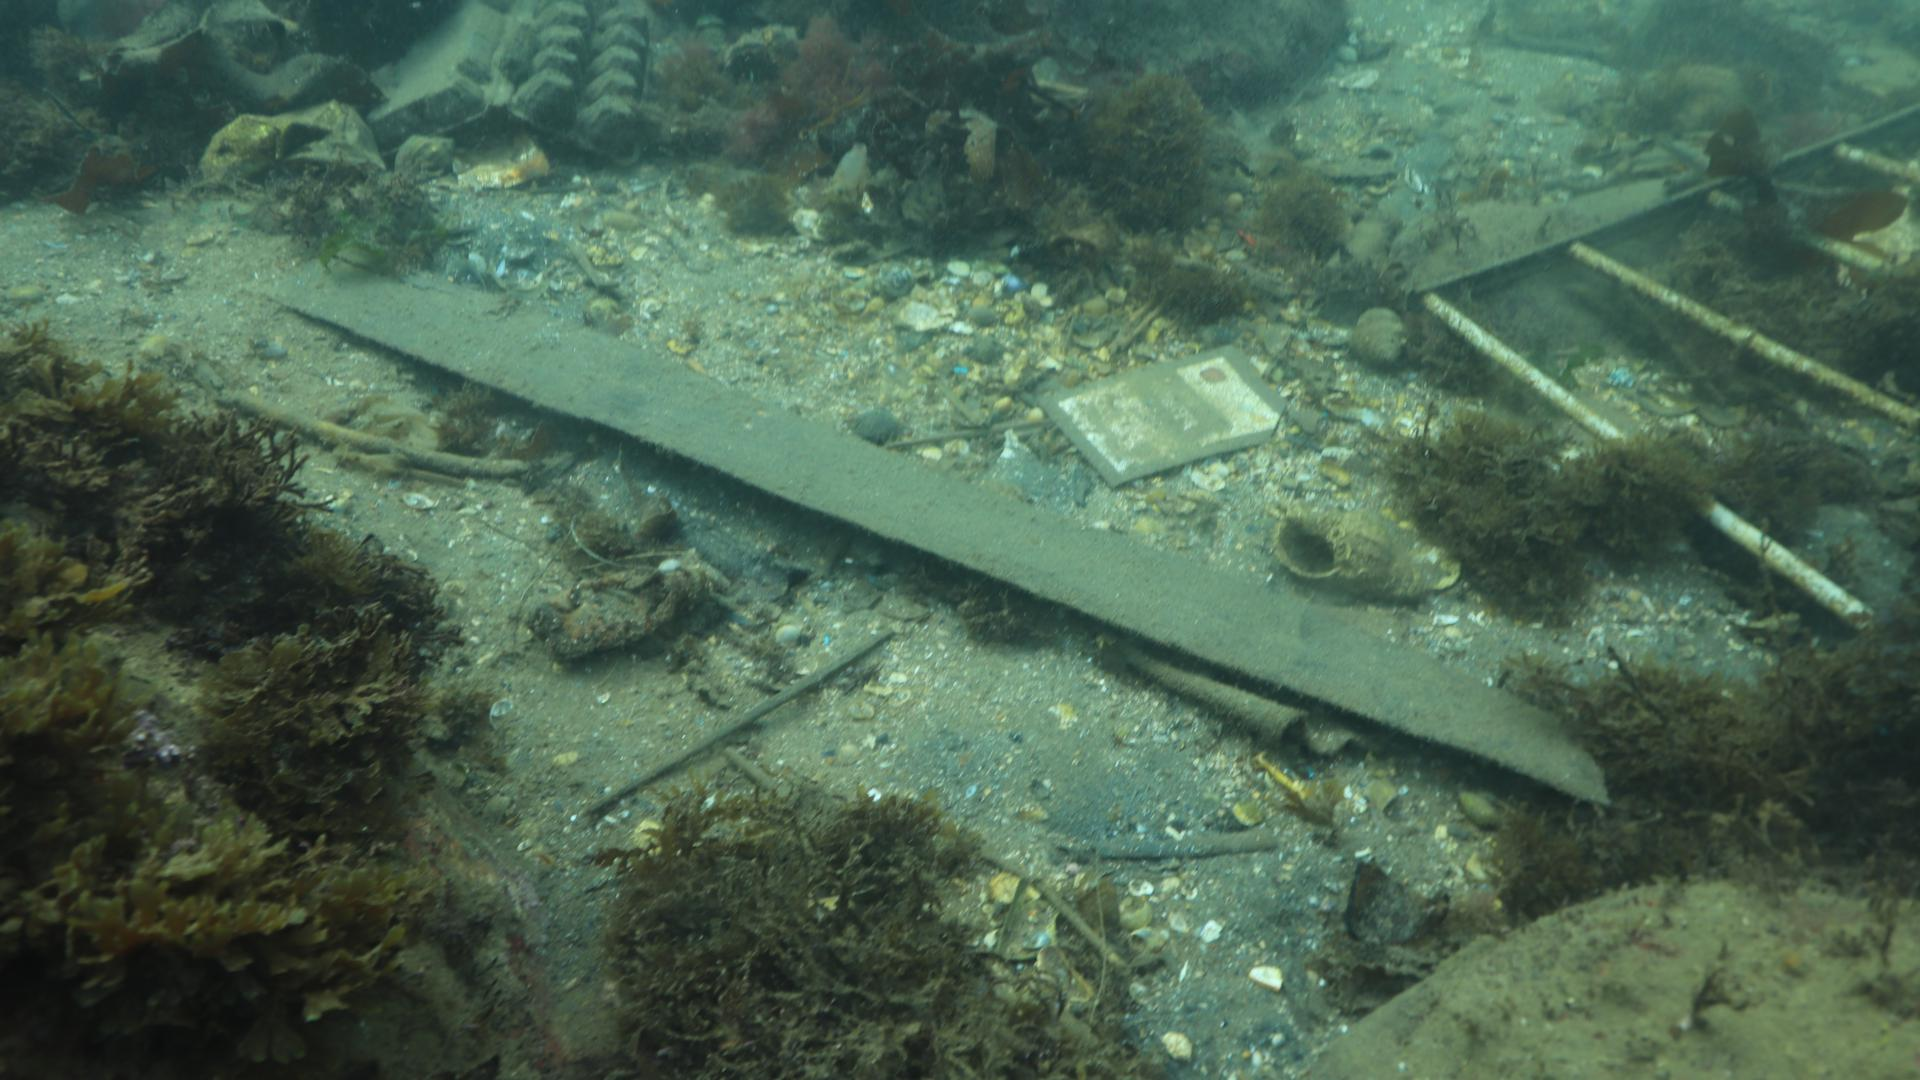wood: (266, 239, 1615, 812)
